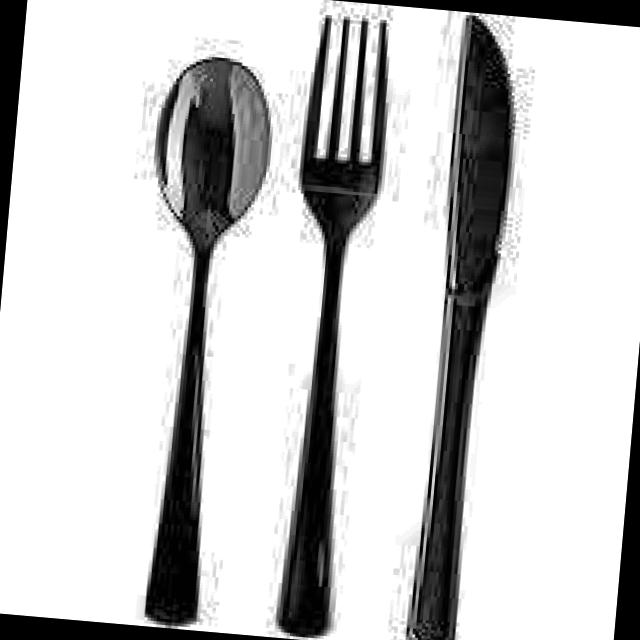plastic utensil: (145, 57, 270, 623), (279, 17, 386, 634), (407, 16, 511, 640)
